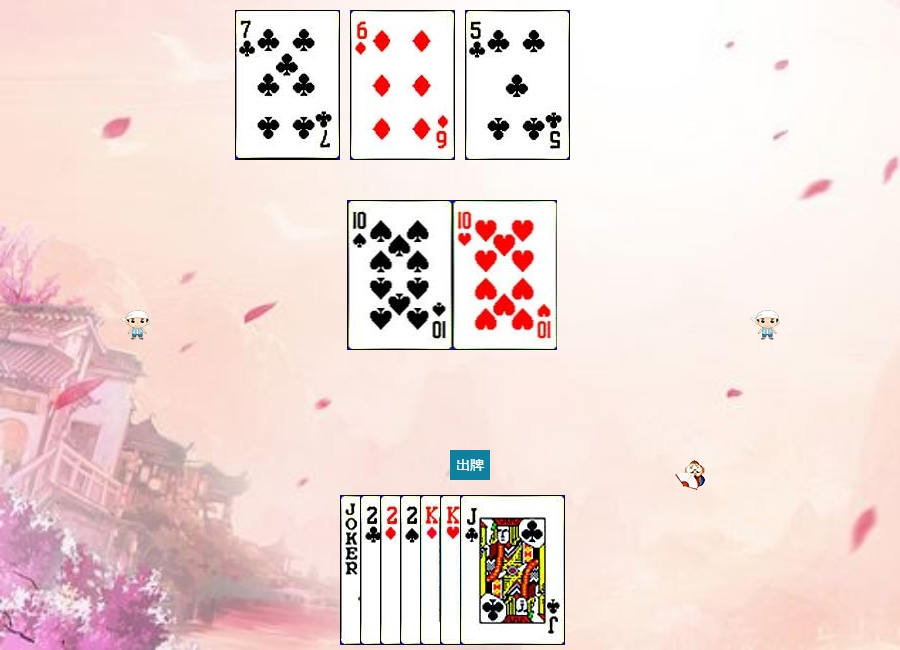10~3: (453, 200, 558, 350)
10~4: (348, 200, 453, 350)
11~2: (460, 495, 565, 645)
13~1: (420, 495, 525, 645)
13~3: (440, 495, 545, 645)
15~1: (380, 495, 485, 645)
15~2: (360, 495, 465, 645)
15~4: (400, 495, 505, 645)
17~3: (340, 495, 445, 645)
5~2: (465, 10, 570, 160)
6~1: (350, 10, 455, 160)
7~2: (235, 10, 340, 160)
